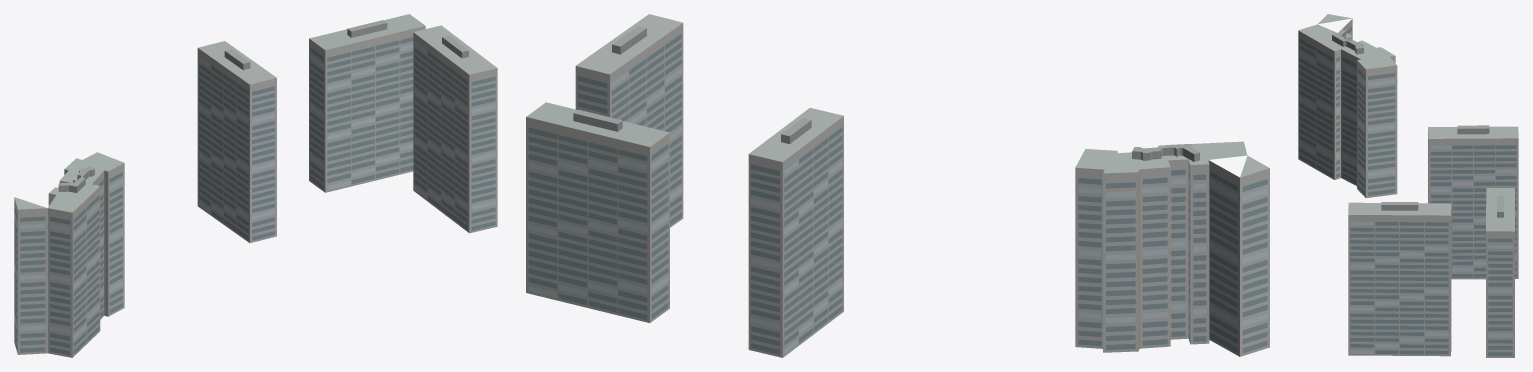
The model's file is apt-a13377302.glb.
The picture shows the model from 3 angles, left to right: view 1: azimuth 30°, elevation 25°; view 2: azimuth 150°, elevation 25°; view 3: azimuth 270°, elevation 25°; orthographic projection. The views are drawn at different scales.
Visible parts, largest first — view 1: apt-a13377302; view 2: apt-a13377302; view 3: apt-a13377302.
Boxes of the visible parts, x1,y1,x2,y2 form: apt-a13377302: [14, 14, 497, 357]; apt-a13377302: [526, 14, 1269, 357]; apt-a13377302: [1298, 14, 1518, 357].
Size of the model in its own units: 196 by 62 by 84.73.
